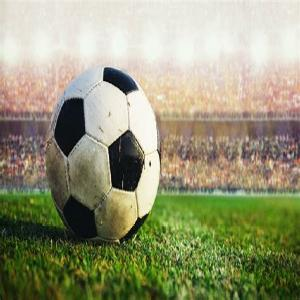Football: (42, 63, 160, 244)
